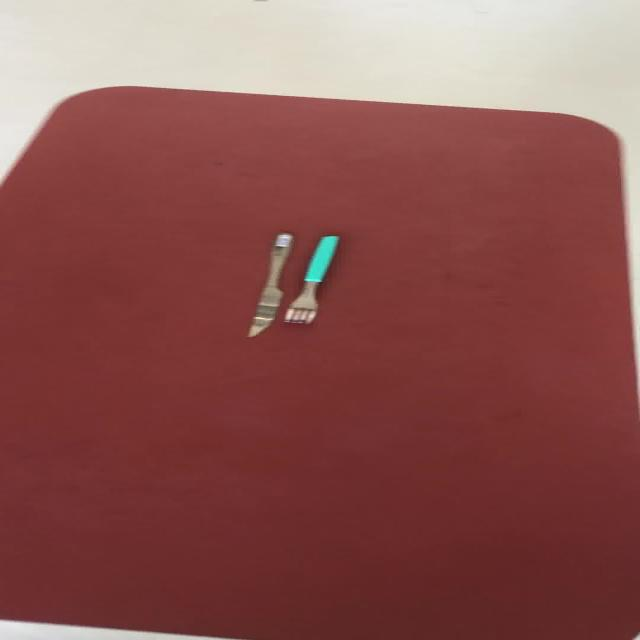fork: (282, 234, 339, 325), (245, 231, 292, 337)
knife fork: (245, 231, 292, 337)
